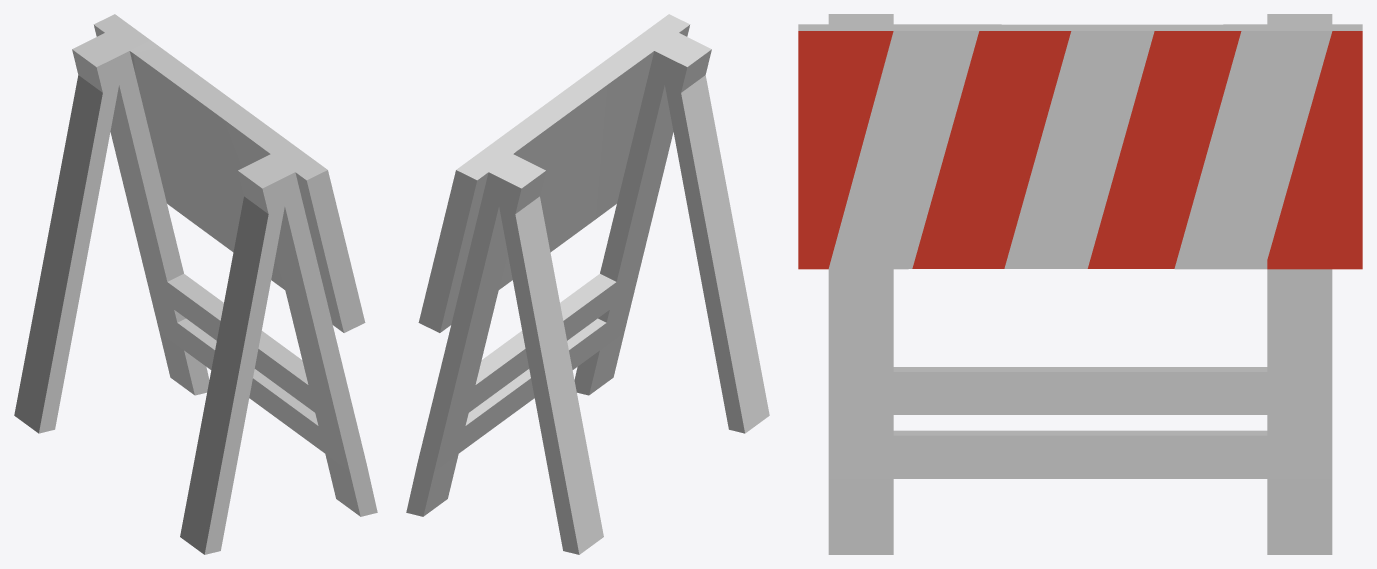
Rendered from traffic6.glb.
The picture shows the model from 3 angles, left to right: view 1: azimuth 30°, elevation 25°; view 2: azimuth 150°, elevation 25°; view 3: azimuth 270°, elevation 25°; orthographic projection. The views are drawn at different scales.
Visible parts, largest first — view 1: WarningSign; view 2: WarningSign; view 3: WarningSign.
Boxes of the visible parts, x1,y1,x2,y2 form: WarningSign: [14, 14, 377, 554]; WarningSign: [406, 14, 769, 554]; WarningSign: [798, 14, 1362, 554].
Bounding box in the file's own units: 1.27 × 2.57 × 2.71.
